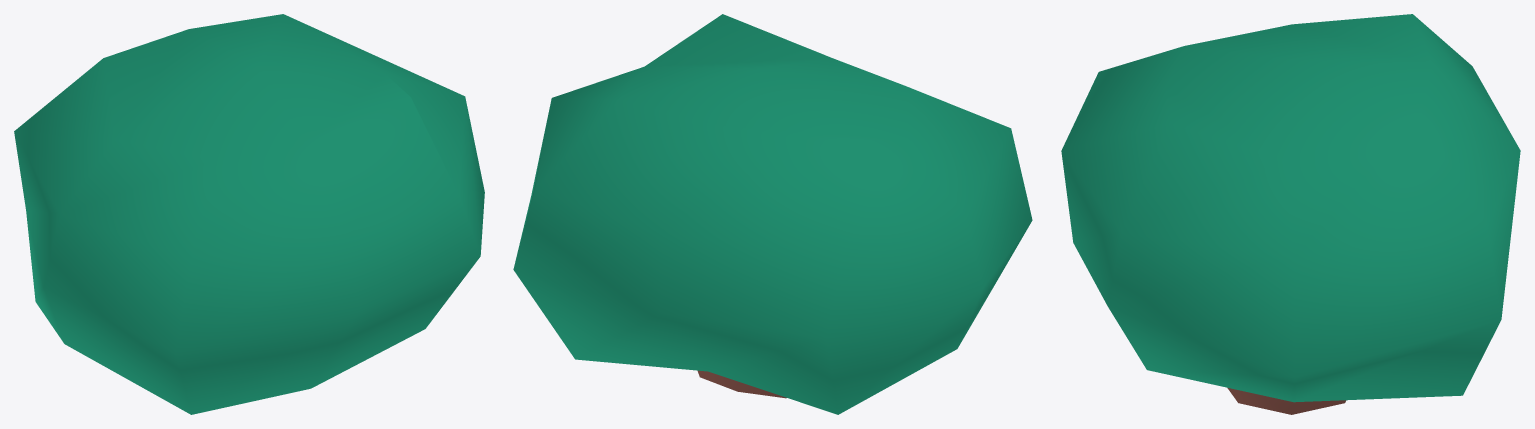
The model's file is tmg-waldo_envir_bush-01.glb.
3 renders of one model, left to right at view 1: azimuth 30°, elevation 25°; view 2: azimuth 150°, elevation 25°; view 3: azimuth 270°, elevation 25°, orthographic. The views are drawn at different scales.
Parts seen in each view (by area): view 1: envir_bush-01; view 2: envir_bush-01; view 3: envir_bush-01.
Part boxes in pixels (left/top/right/bottom): envir_bush-01: left=14, top=14, right=484, bottom=414; envir_bush-01: left=513, top=14, right=1032, bottom=414; envir_bush-01: left=1061, top=14, right=1520, bottom=414.
Bounding box in the file's own units: 1.04 × 0.6665 × 0.8598.
1 material, 1 textured.
